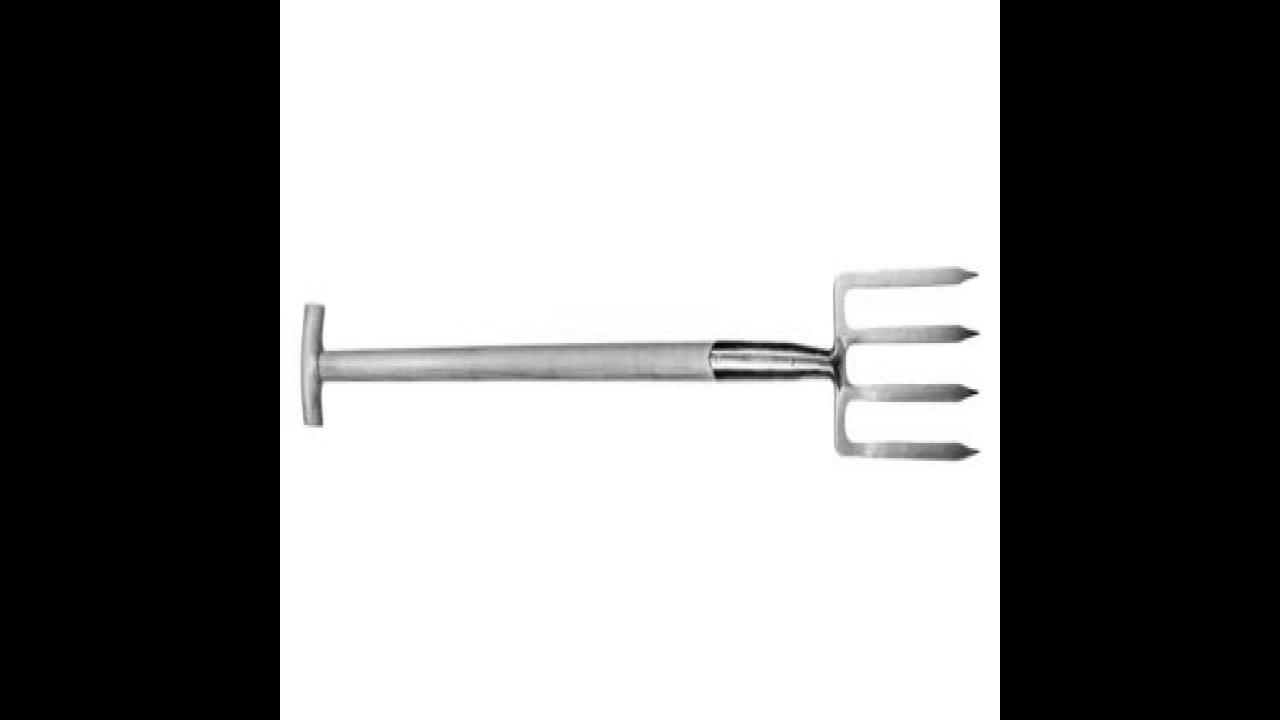fork: (299, 266, 980, 463)
